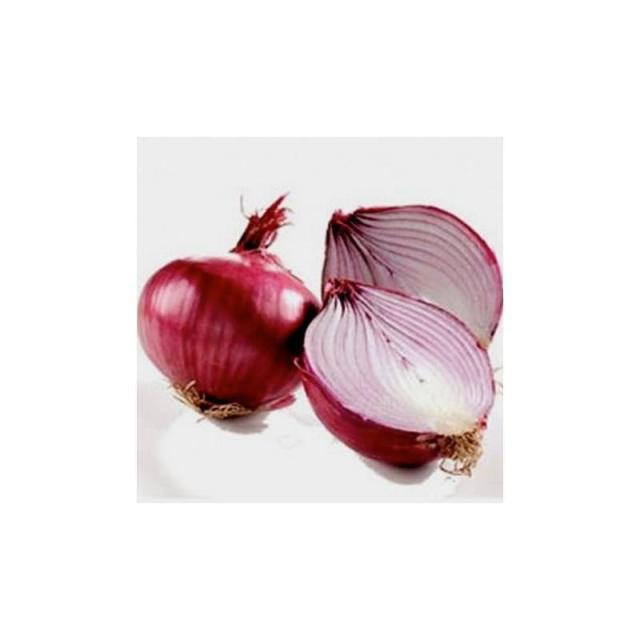Onion: (140, 190, 323, 422), (291, 274, 492, 479), (320, 206, 503, 348)
